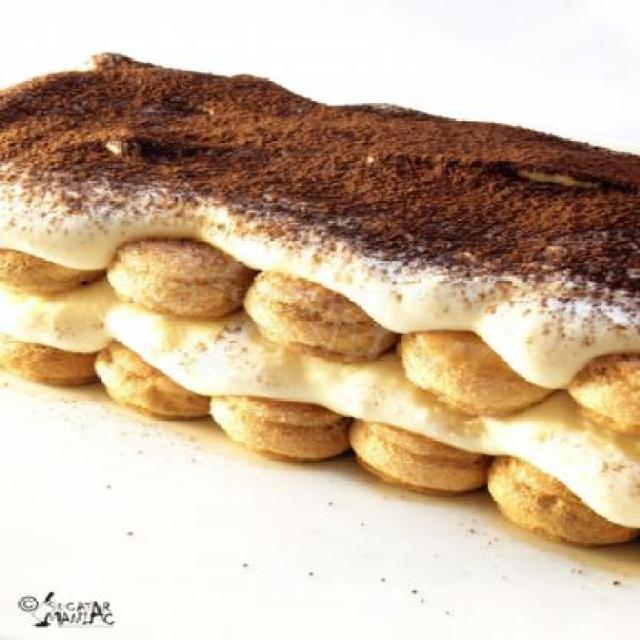Tiramisu: (20, 56, 638, 566)
